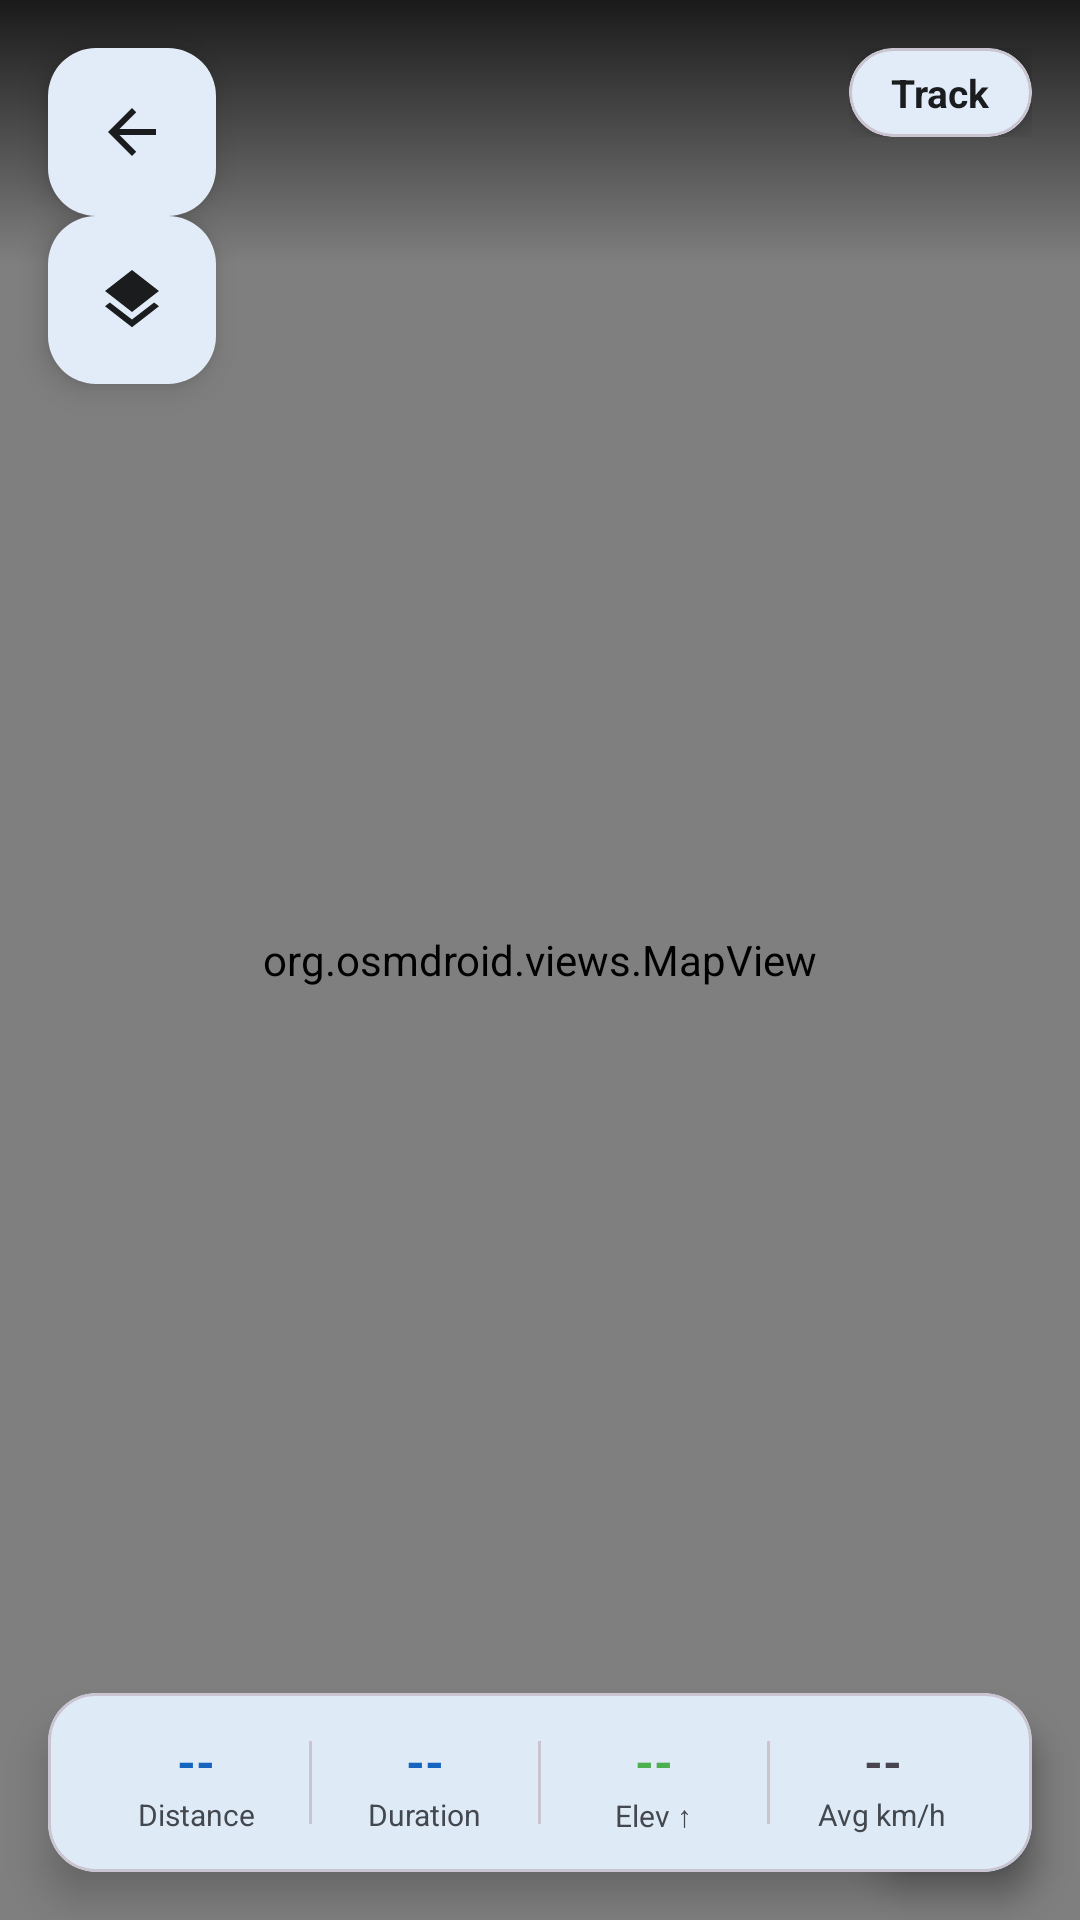

Screen size 1080w x 1920h. Icon name, then its box in pixels as (x1, y1, x2, y2):
Map layer: (48, 216, 216, 384)
